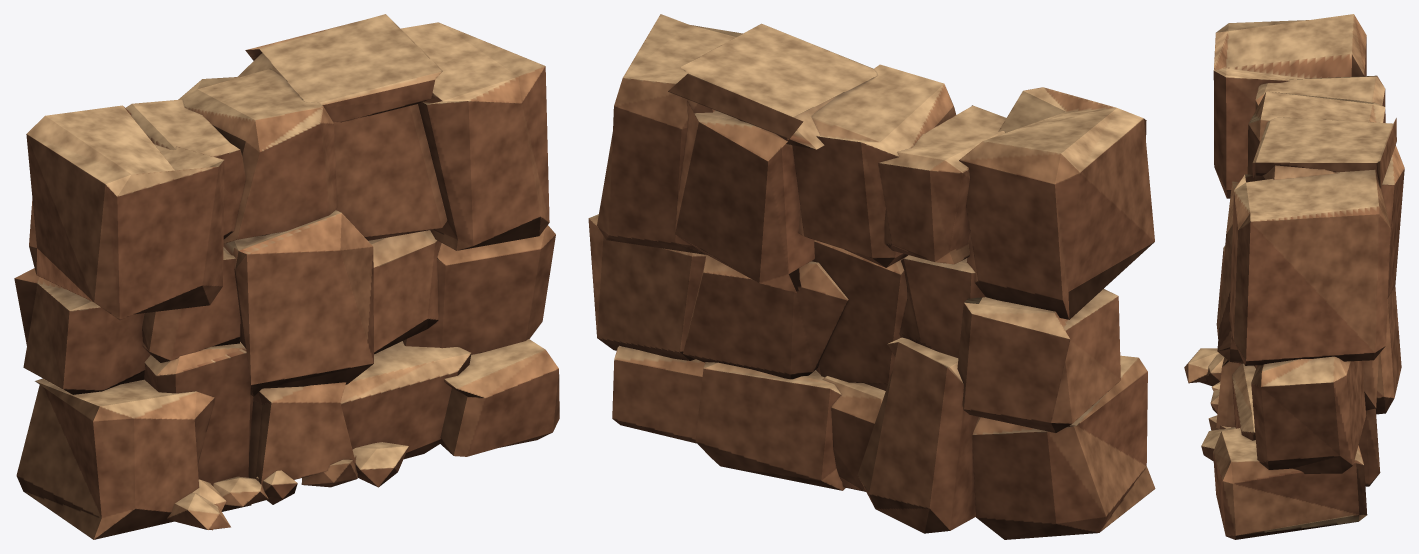
File: Env_CliffBrown_3.glb
3 renders of one model, left to right at view 1: azimuth 30°, elevation 25°; view 2: azimuth 150°, elevation 25°; view 3: azimuth 270°, elevation 25°, orthographic. The views are drawn at different scales.
Parts seen in each view (by area): view 1: Env_CliffBrown_3.001; view 2: Env_CliffBrown_3.001; view 3: Env_CliffBrown_3.001.
Part boxes in pixels (x1=…): Env_CliffBrown_3.001: x1=14, y1=14, x2=559, y2=539; Env_CliffBrown_3.001: x1=588, y1=14, x2=1155, y2=539; Env_CliffBrown_3.001: x1=1184, y1=14, x2=1404, y2=539.
Size of the model in its own units: 12 by 9.03 by 5.1.
Materials: 1 (1 with a texture image).
